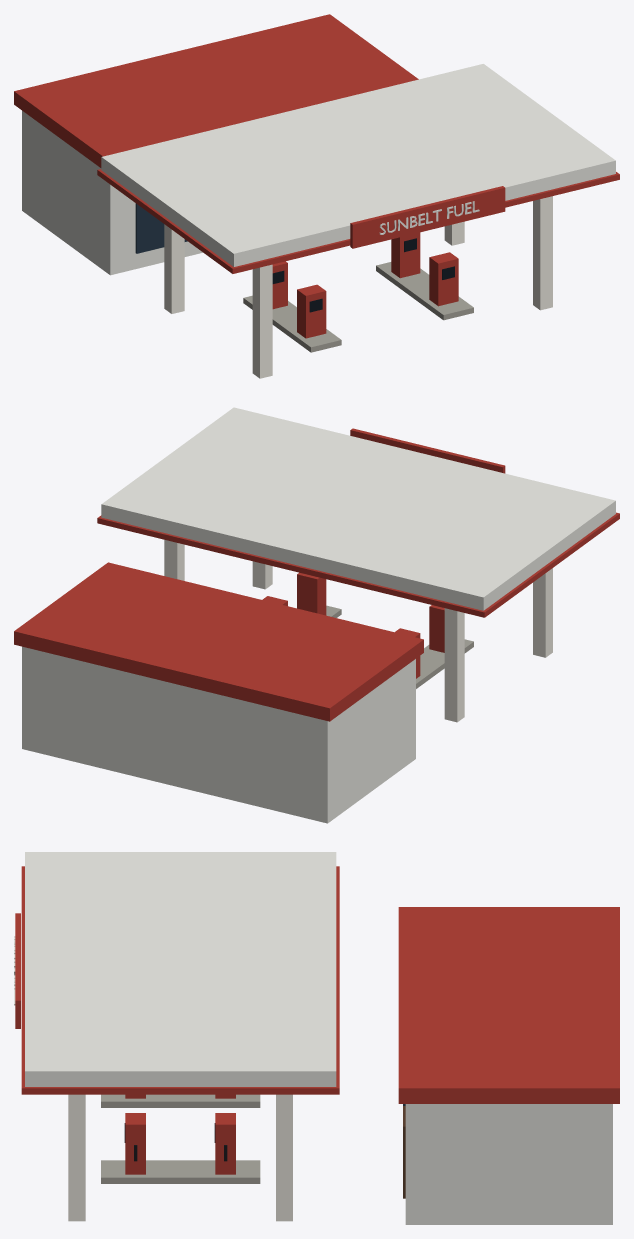
Rendered from gas_station.glb.
3 views of the same model, one above another, from view 1: azimuth 30°, elevation 25°; view 2: azimuth 150°, elevation 25°; view 3: azimuth 270°, elevation 25° (orthographic). The views are drawn at different scales.
Visible parts, largest first — view 1: gas_station_Body, gas_station_SignBoard, gas_station_Sign; view 2: gas_station_Body, gas_station_SignBoard; view 3: gas_station_Body, gas_station_SignBoard.
Boxes of the visible parts, <box> form: gas_station_Body: <box>14,14,619,378</box>; gas_station_SignBoard: <box>350,186,505,248</box>; gas_station_Sign: <box>379,201,479,234</box>; gas_station_Body: <box>14,407,619,823</box>; gas_station_SignBoard: <box>350,428,505,473</box>; gas_station_Body: <box>21,852,619,1224</box>; gas_station_SignBoard: <box>15,913,20,1028</box>.
Size of the model in its own units: 15.2 by 5.75 by 17.52.
